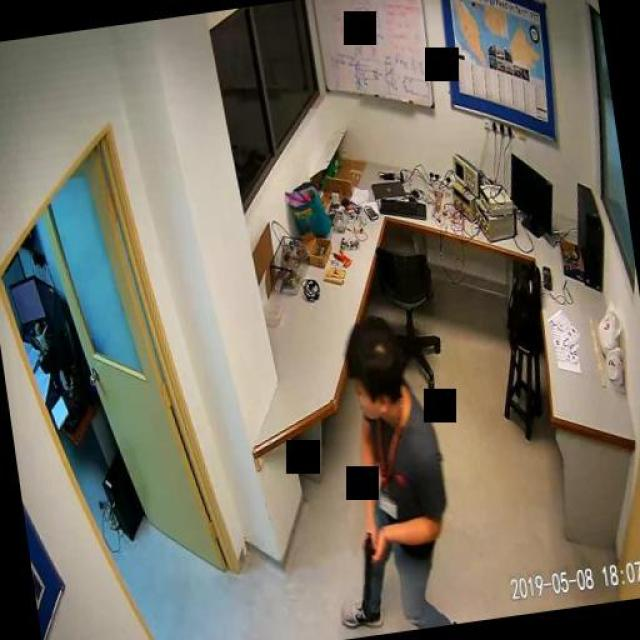gun: (355, 530, 381, 602)
